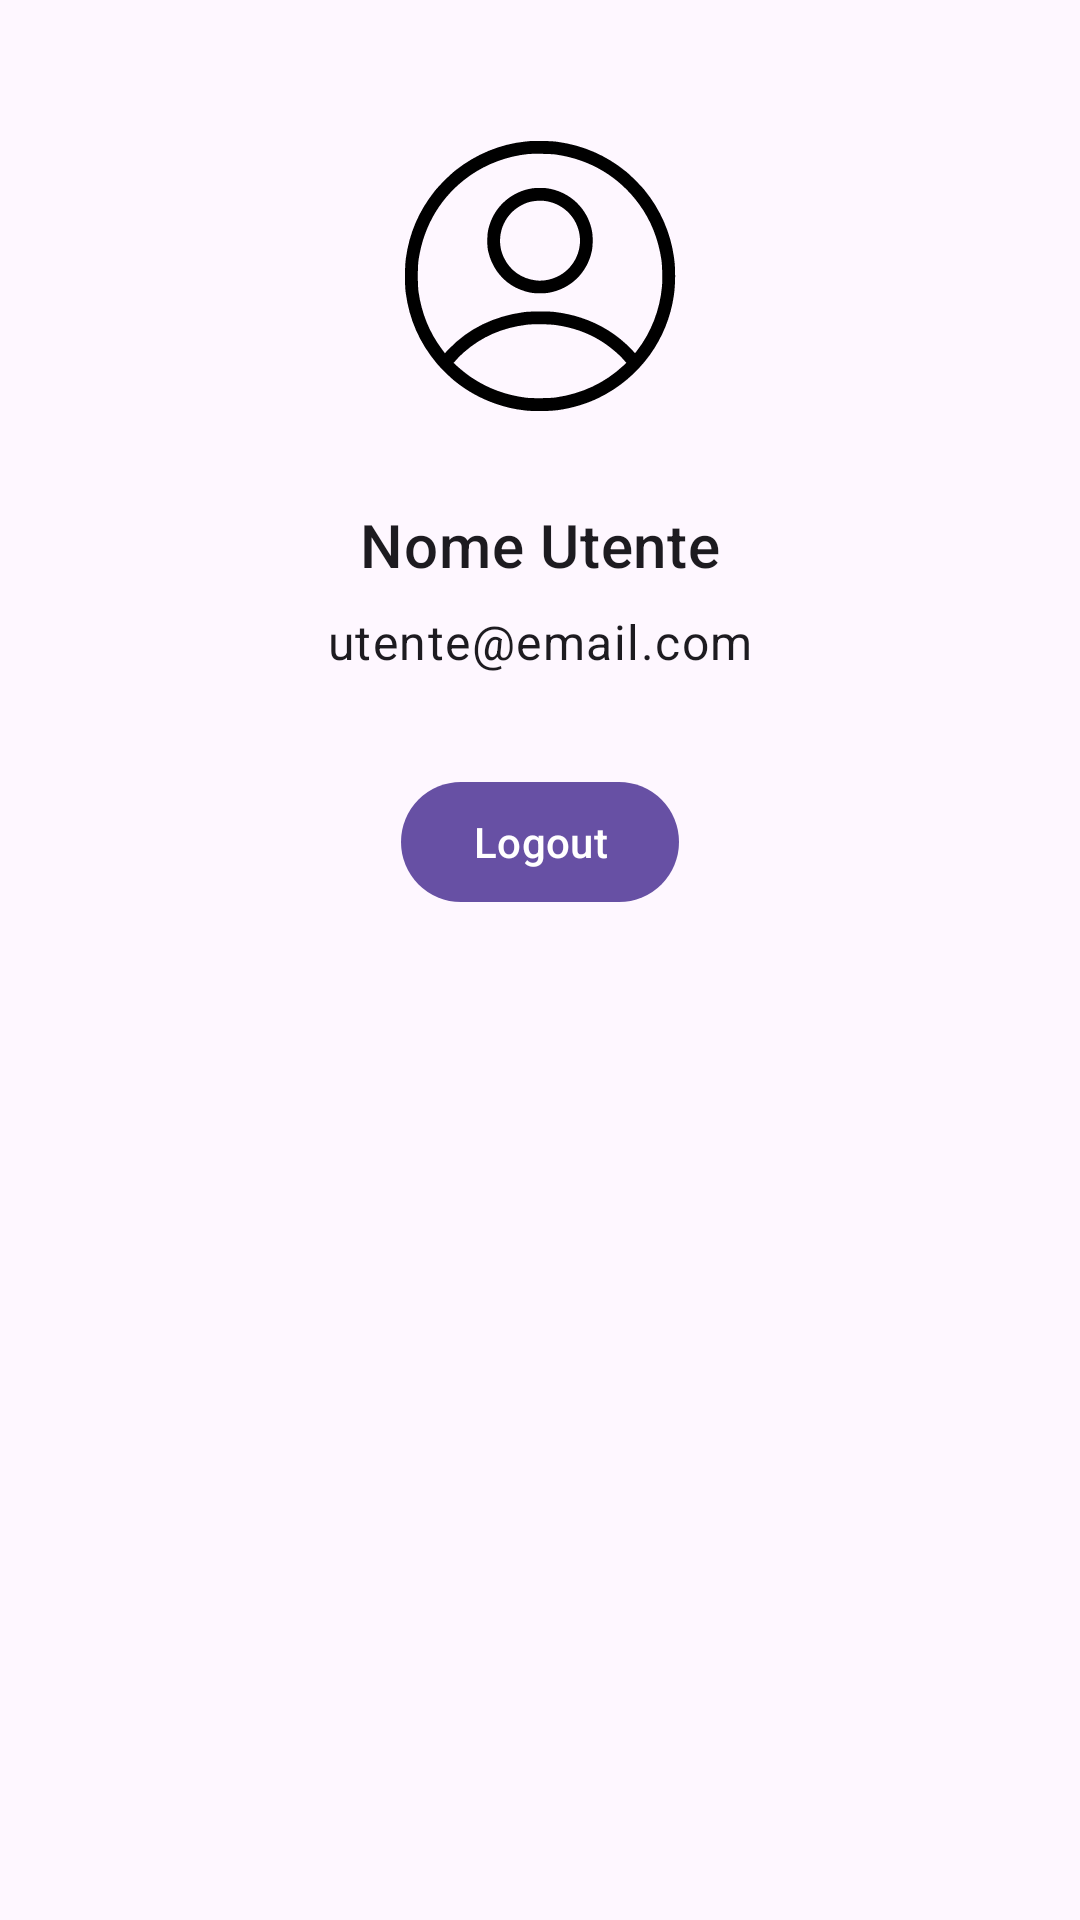

Where icons sit on this 1080x1920 app screen, as {"x1": x1, "y1": y1, "x2": x2, "y2": y2}:
profile: {"x1": 405, "y1": 141, "x2": 676, "y2": 411}
